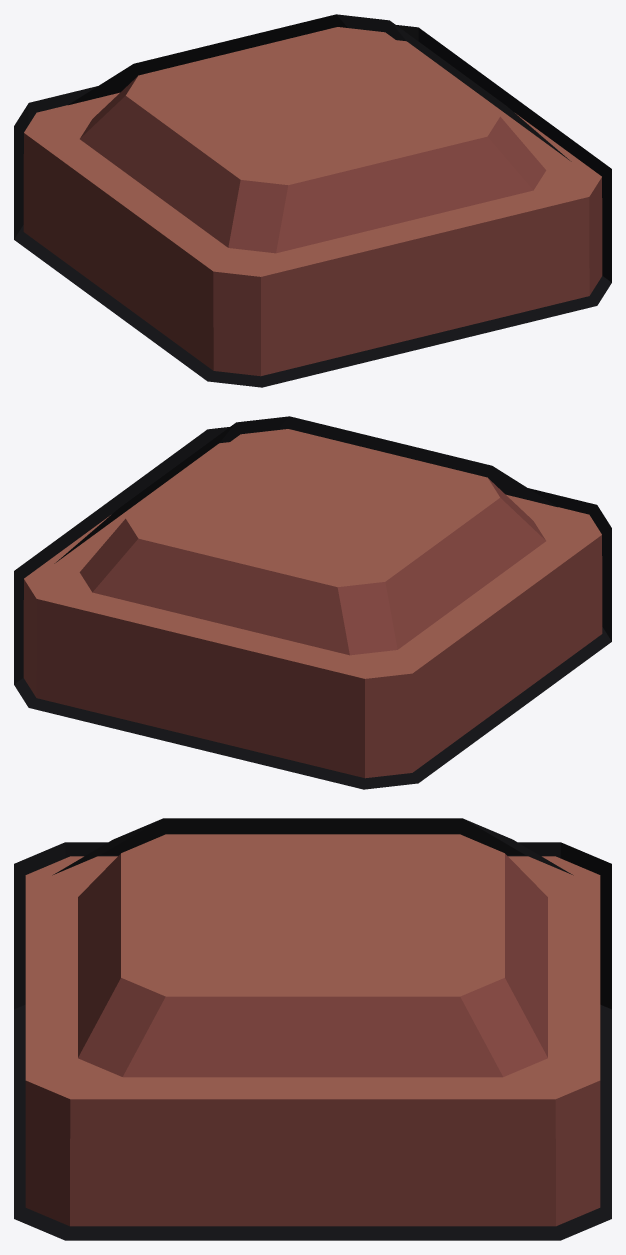
File: Chocolate_Piece.fbx
3 renders of one model, top to bottom at view 1: azimuth 30°, elevation 25°; view 2: azimuth 150°, elevation 25°; view 3: azimuth 270°, elevation 25°, orthographic. The views are drawn at different scales.
Parts seen in each view (by area): view 1: Plane; view 2: Plane; view 3: Plane.
Part boxes in pixels (left/top/right/bottom): Plane: left=14, top=14, right=611, bottom=387; Plane: left=14, top=416, right=611, bottom=789; Plane: left=14, top=818, right=611, bottom=1240.
Size of the model in its own units: 4.16 by 1.62 by 4.16.
